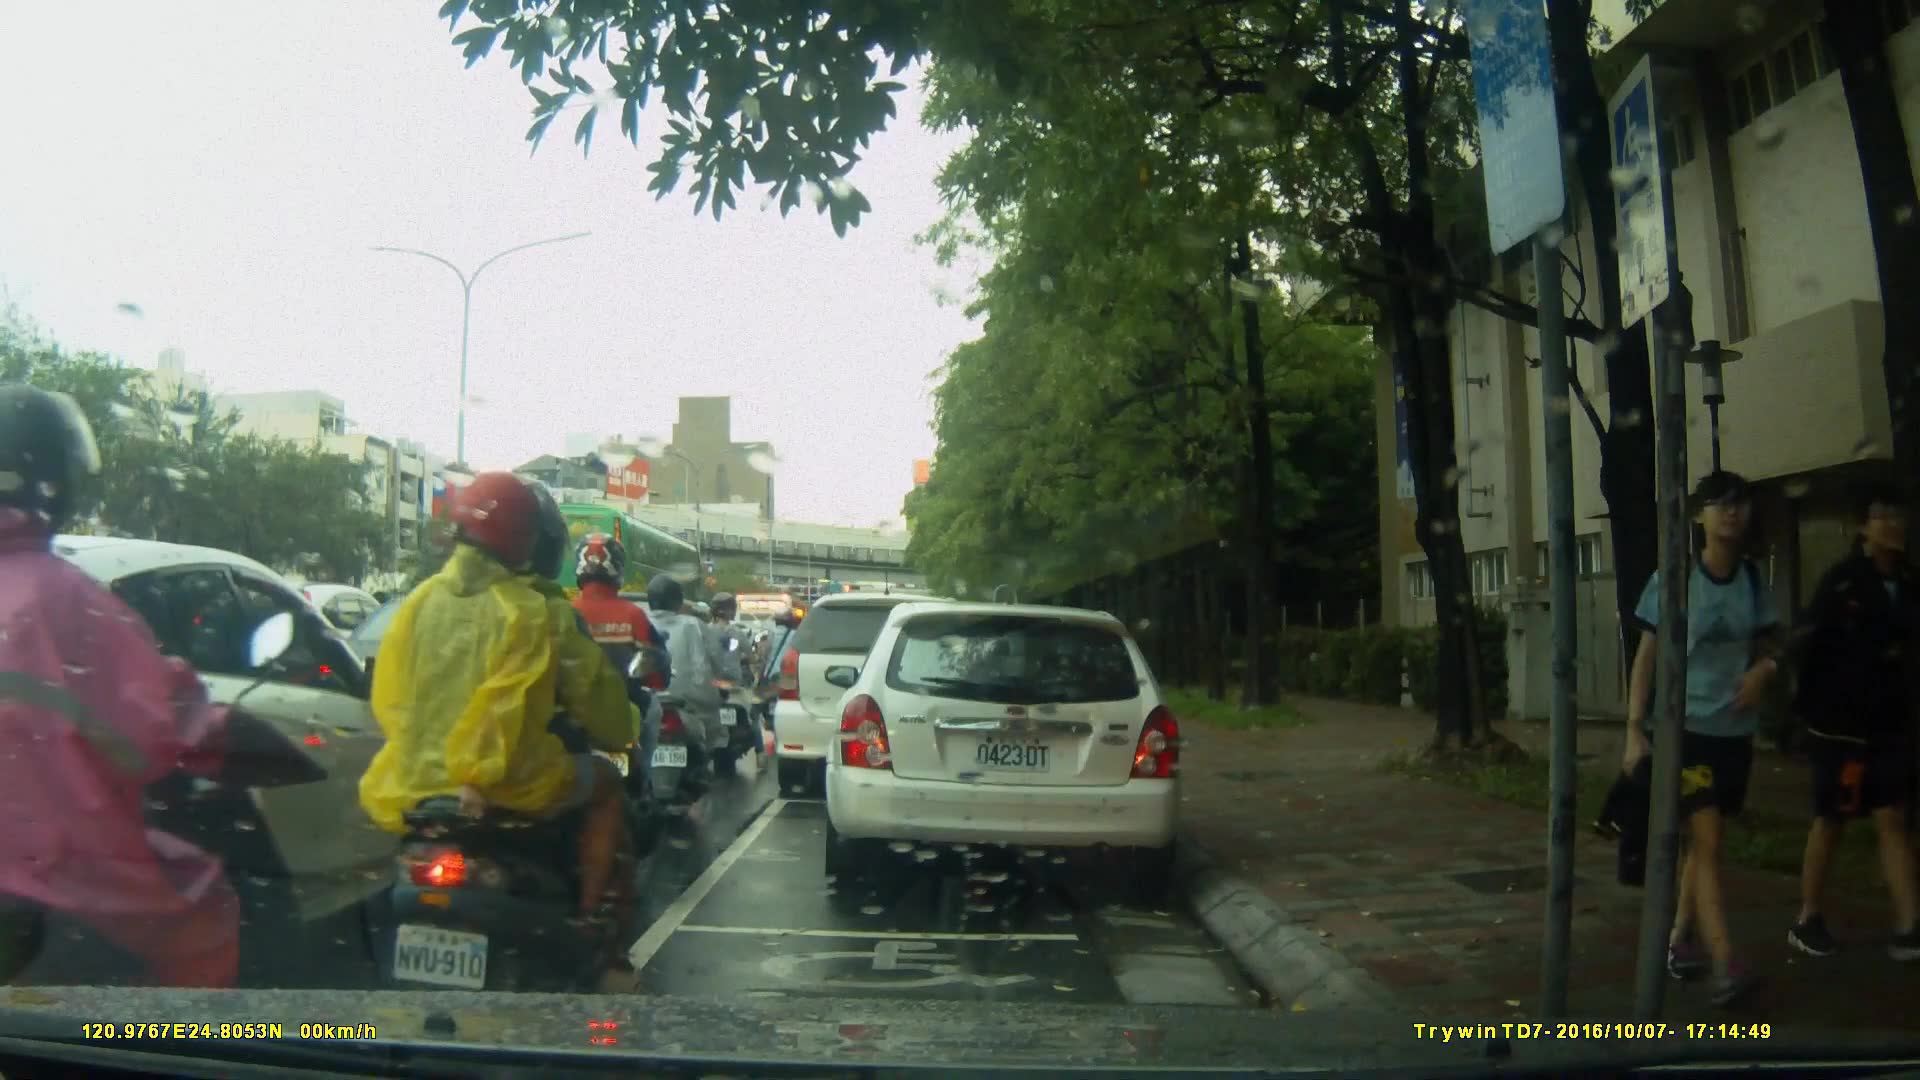pedestrian: (1605, 467, 1808, 999), (1772, 500, 1920, 964)
rider: (1, 390, 303, 1063), (365, 471, 636, 1025), (543, 533, 683, 860), (622, 573, 731, 809), (697, 587, 767, 768), (757, 607, 814, 737)
vehicle: (2, 533, 461, 988), (831, 592, 1196, 897), (320, 590, 629, 776), (770, 590, 999, 804), (495, 500, 708, 636)
